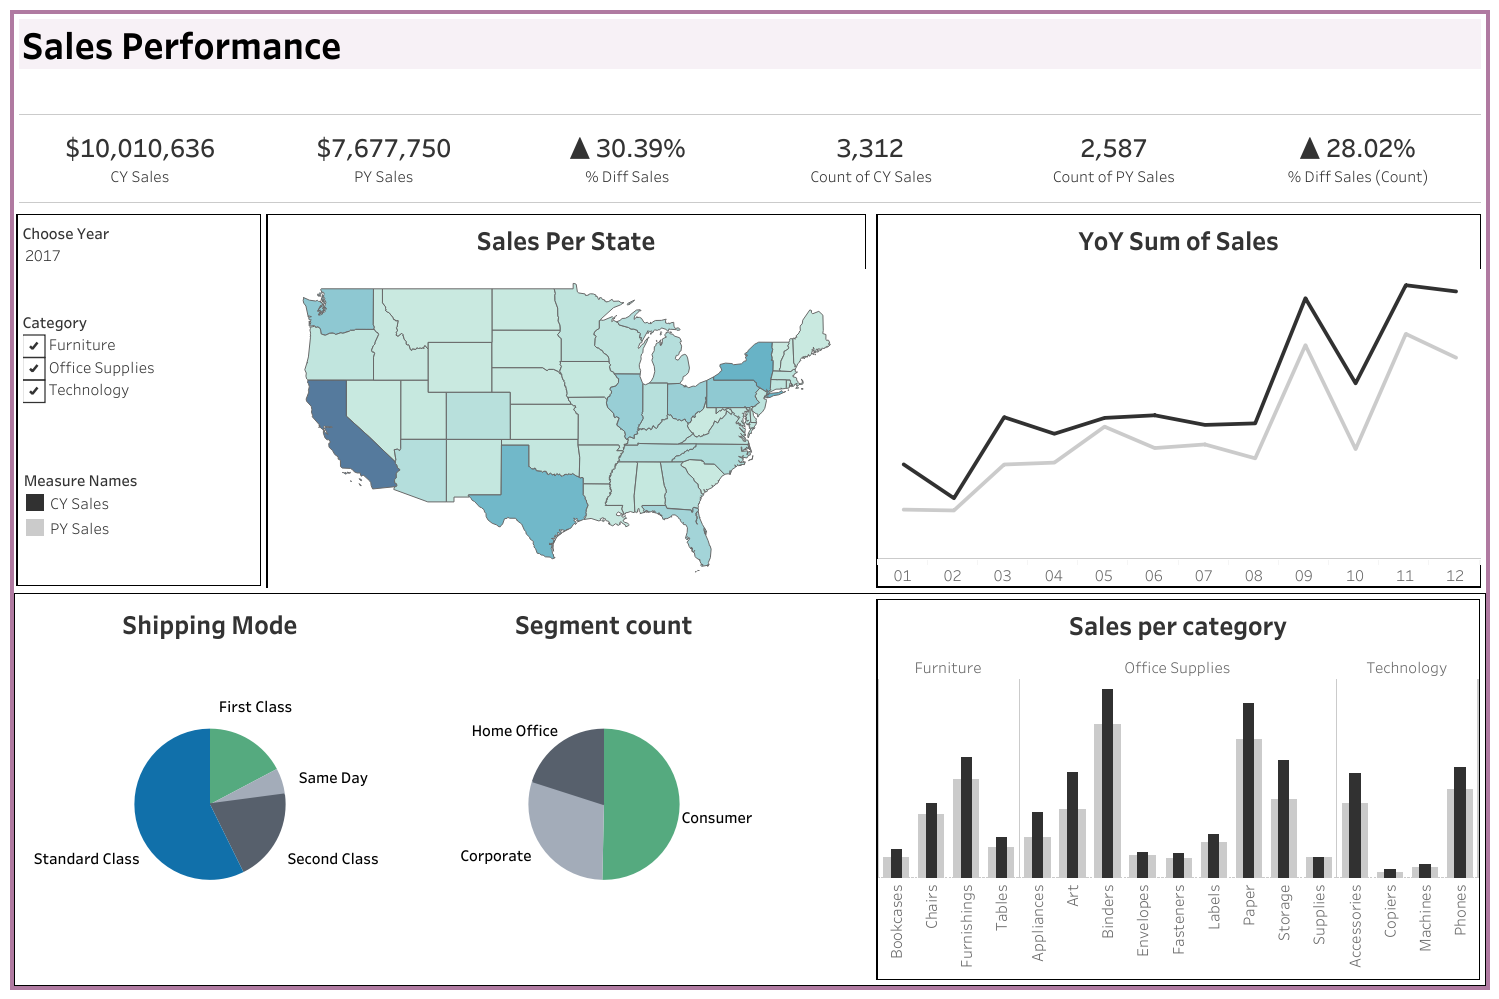

What the dashboard file says about the page in this screenshot:
{"tool":"tableau","page":{"name":"Dashboard 2","canvas":[1200,800],"ordinal":0},"visuals":[{"type":"text","box":[11,11,1178,48]},{"type":"worksheet","title":"Summary KPI","mark":"Automatic","box":[11,72.3,1178,94.5]},{"type":"blank","box":[11,166.8,197.6,307.6]},{"type":"worksheet","title":"Sales Per State","mark":"Automatic","box":[208.6,166.8,488.7,307.6]},{"type":"worksheet","title":"KPI Sales","mark":"Automatic","rows":["Calculation_3106639324196937730","CY Sales (copy)_3106639324197326852"],"cols":["Order Date"],"box":[697.3,166.8,491.7,307.6]},{"type":"parameter","param":"[Parameters].[Parameter 1]","box":[14,172,194,71]},{"type":"filter","title":"KPI Sales","param":"[federated.1581yz30u800vf15q0hrt0hno212].[none:Category:nk]","box":[14,243,194,126]},{"type":"legend","title":"Sales per product category","param":"[federated.1581yz30u800vf15q0hrt0hno212].[:Measure Names]","box":[14,369,194,67]},{"type":"worksheet","title":"Shipping Mode","mark":"Pie","box":[12,475.4,315,312.6]},{"type":"worksheet","title":"Segment count","mark":"Pie","box":[327,475.4,312,312.6]},{"type":"worksheet","title":"Sales per product category","mark":"Bar","rows":["Calculation_3106639324196937730","CY Sales (copy)_3106639324197326852"],"cols":["Category","Sub-Category"],"box":[697.1,475.4,490.9,312.6]}]}

Visuals, with their boxes in screenshot pixels (x1, y1, x2, y2), scaled from the page's 1200x800 canvas onto the 1499x999 screenshot:
text: pyautogui.locateOnScreen(14, 14, 1485, 74)
"Summary KPI" worksheet: pyautogui.locateOnScreen(14, 90, 1485, 208)
blank: pyautogui.locateOnScreen(14, 208, 261, 592)
"Sales Per State" worksheet: pyautogui.locateOnScreen(261, 208, 871, 592)
"KPI Sales" worksheet: pyautogui.locateOnScreen(871, 208, 1485, 592)
parameter: pyautogui.locateOnScreen(17, 215, 260, 303)
"KPI Sales" filter: pyautogui.locateOnScreen(17, 303, 260, 461)
"Sales per product category" legend: pyautogui.locateOnScreen(17, 461, 260, 544)
"Shipping Mode" worksheet (Pie marks): pyautogui.locateOnScreen(15, 594, 408, 984)
"Segment count" worksheet (Pie marks): pyautogui.locateOnScreen(408, 594, 798, 984)
"Sales per product category" worksheet (Bar marks): pyautogui.locateOnScreen(871, 594, 1484, 984)
